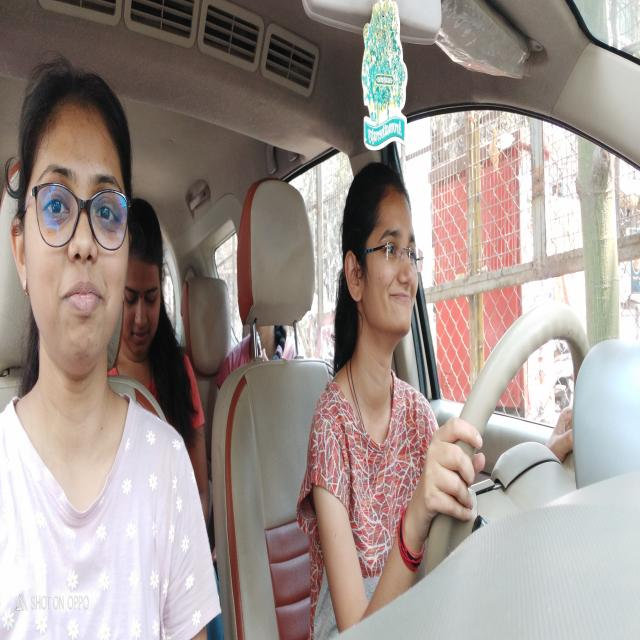person: (8, 58, 133, 386), (342, 169, 424, 356), (127, 184, 167, 368)
